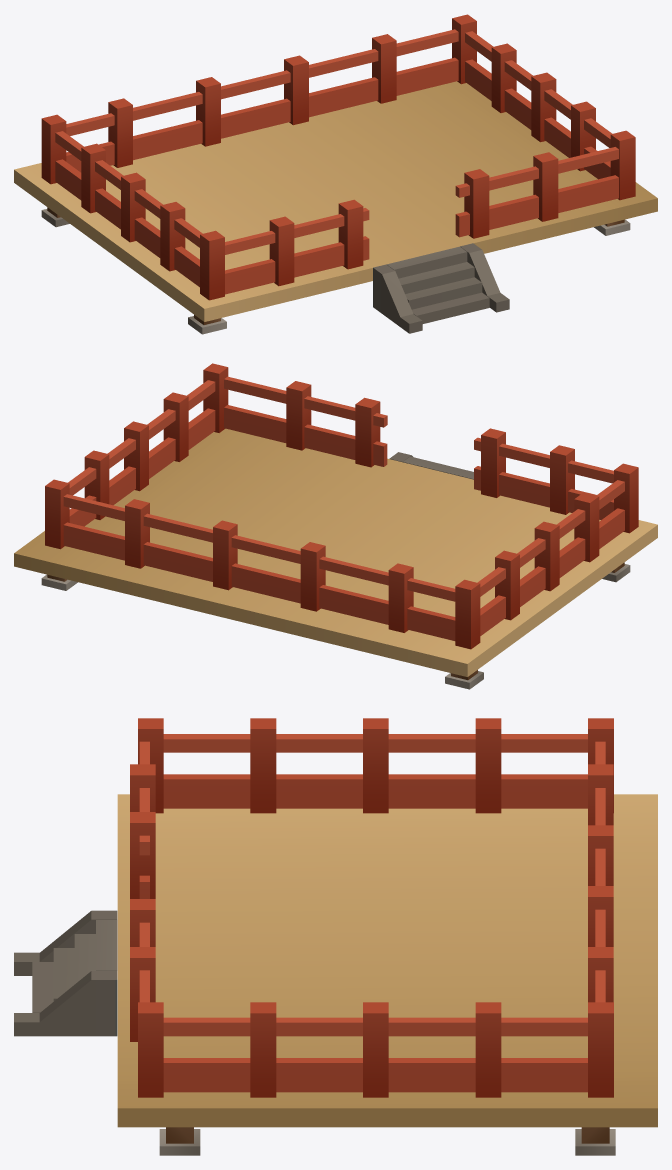
File: Shrine_PlatformFull.gltf
3 views of the same model, one above another, from view 1: azimuth 30°, elevation 25°; view 2: azimuth 150°, elevation 25°; view 3: azimuth 270°, elevation 25° (orthographic). The views are drawn at different scales.
Parts seen in each view (by area): view 1: Shrine_Base, Shrine_Fence.004, Shrine_Stairs_Mid.004, Shrine_Stairs_Side.004, Shrine_BaseSupport.004; view 2: Shrine_Base, Shrine_Fence.004, Shrine_BaseSupport.004, Shrine_Stairs_Mid.004; view 3: Shrine_Base, Shrine_Fence.004, Shrine_Stairs_Side.004, Shrine_Stairs_Mid.004, Shrine_BaseSupport.004.
Boxes of the visible parts, box(x1,y1,x2,y2) form: Shrine_Base: box(14, 81, 657, 321); Shrine_Fence.004: box(41, 14, 635, 300); Shrine_Stairs_Mid.004: box(386, 246, 489, 323); Shrine_Stairs_Side.004: box(373, 243, 509, 333); Shrine_BaseSupport.004: box(41, 207, 630, 334); Shrine_Base: box(14, 428, 657, 676); Shrine_Fence.004: box(45, 363, 638, 649); Shrine_BaseSupport.004: box(41, 562, 630, 689); Shrine_Stairs_Mid.004: box(403, 456, 473, 479); Shrine_Base: box(117, 794, 657, 1127); Shrine_Fence.004: box(130, 718, 613, 1097); Shrine_Stairs_Side.004: box(14, 910, 117, 1036); Shrine_Stairs_Mid.004: box(32, 920, 116, 1012); Shrine_BaseSupport.004: box(159, 1127, 615, 1155).
Bounding box in the file's own units: 7.2 × 1.5 × 6.24.
1 material, 1 textured.
